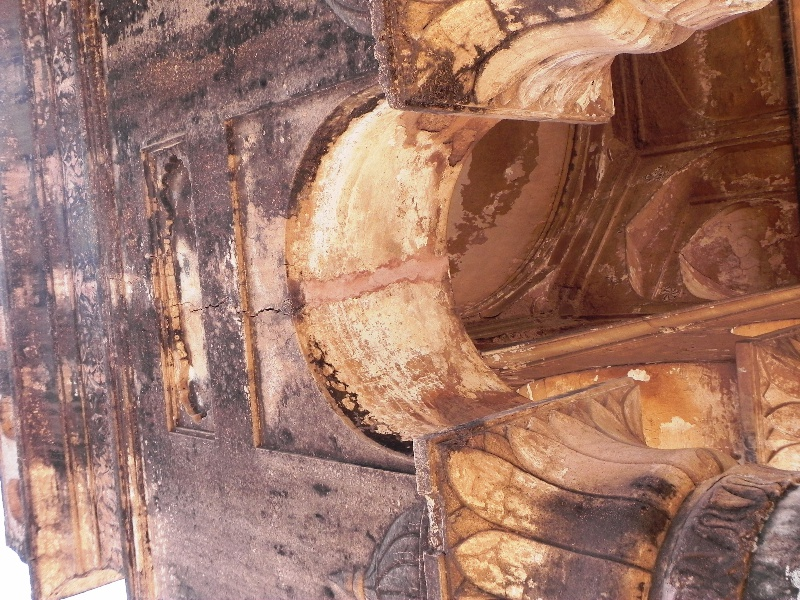Crack: (237, 299, 294, 320)
